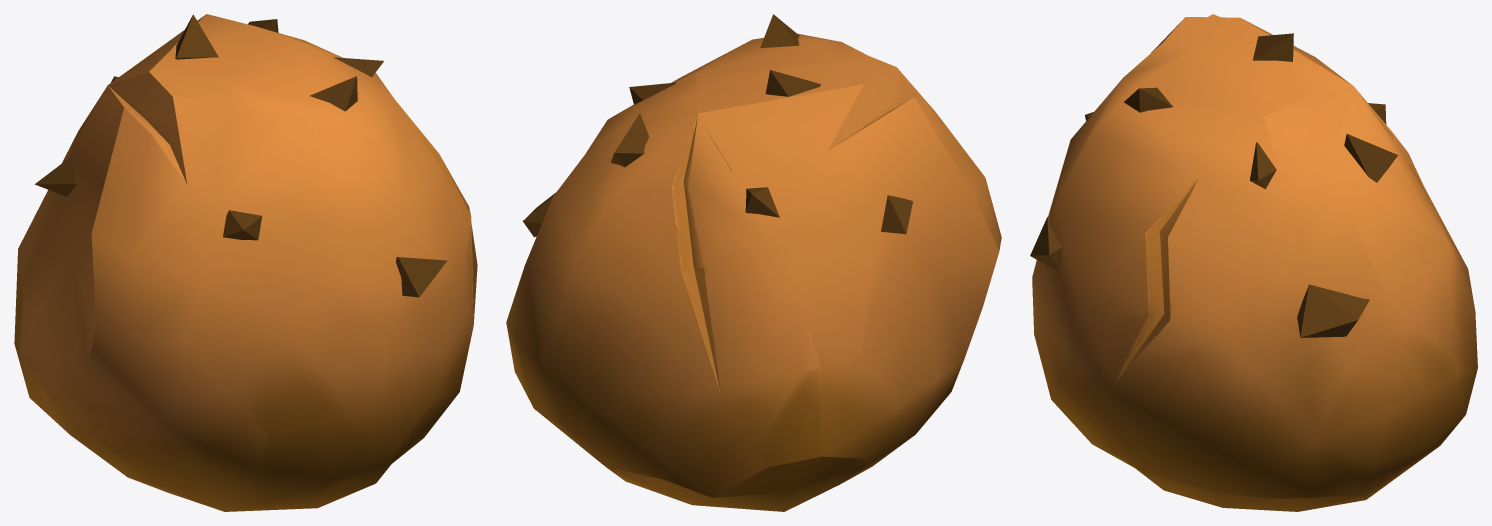
File: RoundCookieRock.fbx
3 views of the same model, side by side, from view 1: azimuth 30°, elevation 25°; view 2: azimuth 150°, elevation 25°; view 3: azimuth 270°, elevation 25° (orthographic). The views are drawn at different scales.
Visible parts, largest first — view 1: Icosphere, Cube.006, Cube.001, Cube.005, Cube.004, Cube.007; view 2: Icosphere, Cube, Cube.004, Cube.001, Cube.007, Cube.002; view 3: Icosphere, Cube.008, Cube, Cube.001, Cube.006, Cube.007, Cube.003.
Boxes of the visible parts, bbox=[...] form: Icosphere: bbox=[14, 14, 477, 511]; Cube.006: bbox=[396, 257, 447, 297]; Cube.001: bbox=[175, 14, 218, 59]; Cube.005: bbox=[223, 210, 262, 240]; Cube.004: bbox=[34, 155, 76, 196]; Cube.007: bbox=[309, 76, 357, 111]; Icosphere: bbox=[506, 33, 1001, 511]; Cube: bbox=[611, 113, 649, 167]; Cube.004: bbox=[881, 195, 912, 234]; Cube.001: bbox=[765, 70, 820, 96]; Cube.007: bbox=[760, 14, 799, 47]; Cube.002: bbox=[745, 187, 779, 217]; Icosphere: bbox=[1032, 14, 1477, 511]; Cube.008: bbox=[1297, 284, 1369, 337]; Cube: bbox=[1344, 134, 1397, 182]; Cube.001: bbox=[1253, 33, 1293, 61]; Cube.006: bbox=[1030, 217, 1061, 269]; Cube.007: bbox=[1124, 87, 1172, 112]; Cube.003: bbox=[1249, 142, 1276, 188].
Bounding box in the file's own units: 291 × 295 × 284.
Materials: 10 (1 with a texture image).
